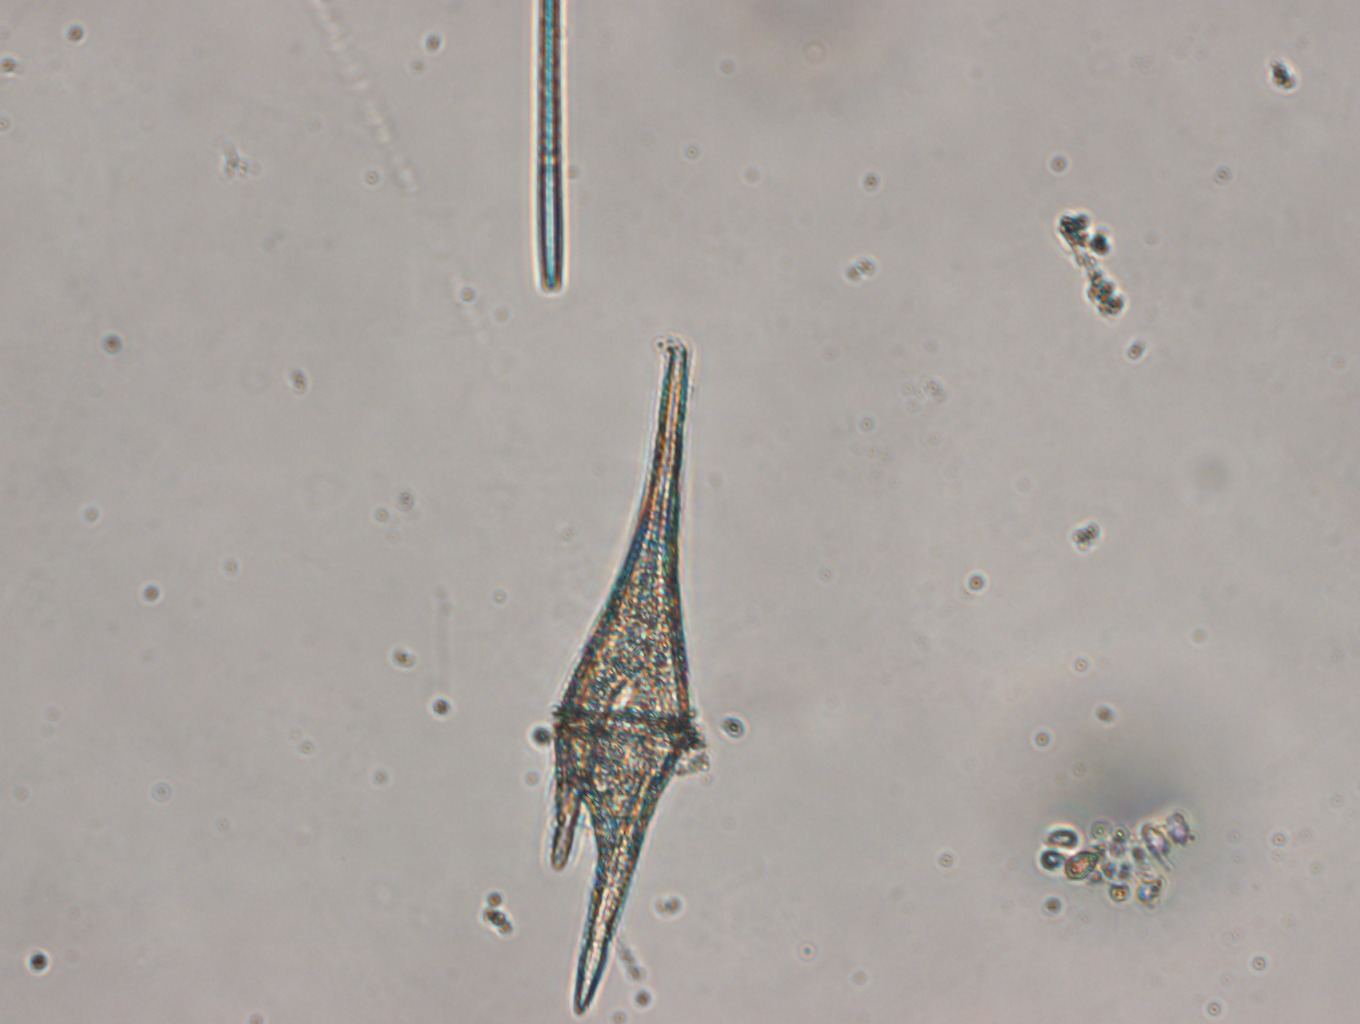ceratium furca: (548, 344, 691, 1016)
